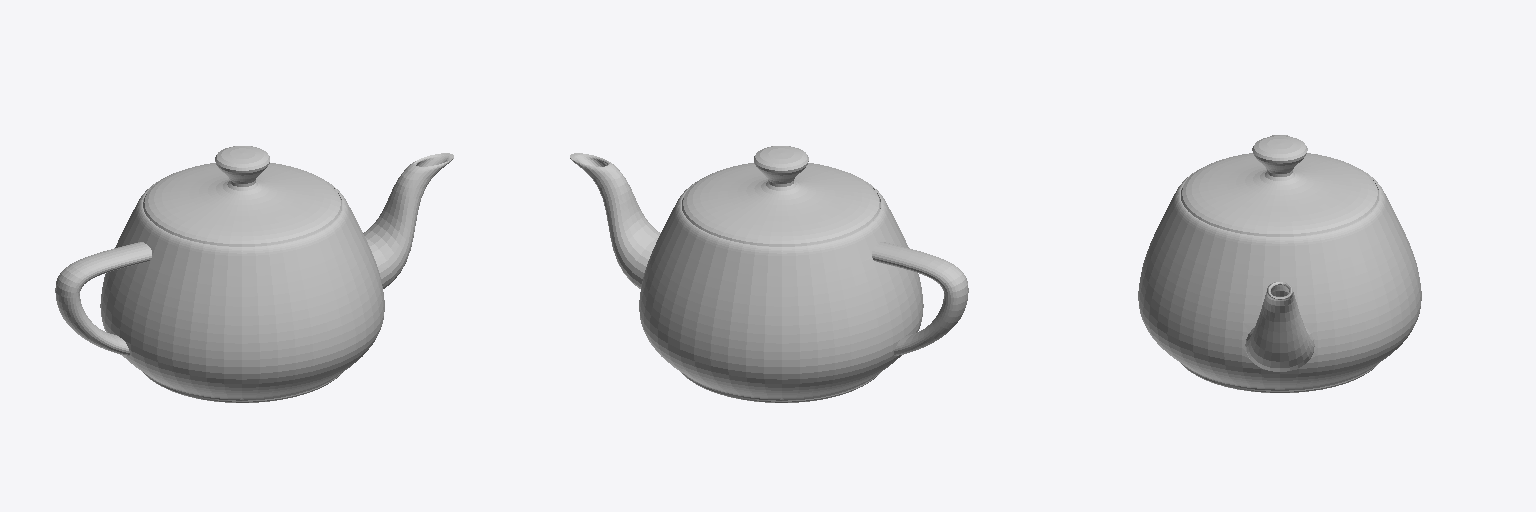
Rendered from teapot.obj.
3 renders of one model, left to right at view 1: azimuth 30°, elevation 25°; view 2: azimuth 150°, elevation 25°; view 3: azimuth 270°, elevation 25°, orthographic.
Visible parts, largest first — view 1: teapot; view 2: teapot; view 3: teapot.
Boxes of the visible parts, box(x1,y1,x2,y2) form: teapot: box(55, 146, 453, 402); teapot: box(570, 146, 968, 402); teapot: box(1138, 135, 1421, 392).
Size of the model in its own units: 2.71 by 1.39 by 1.69.